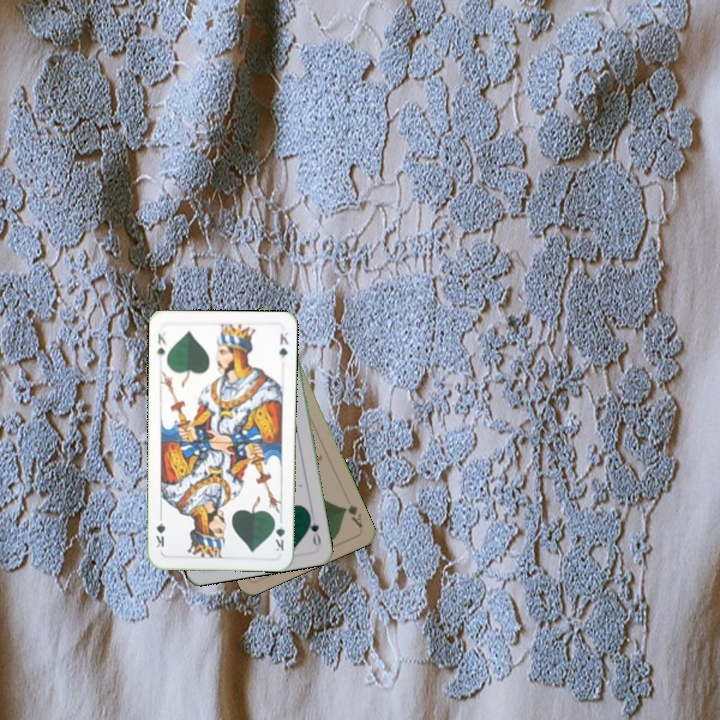GA: (340, 500, 365, 530)
GK: (271, 515, 288, 554), (153, 329, 169, 362)
GO: (304, 509, 323, 549)
